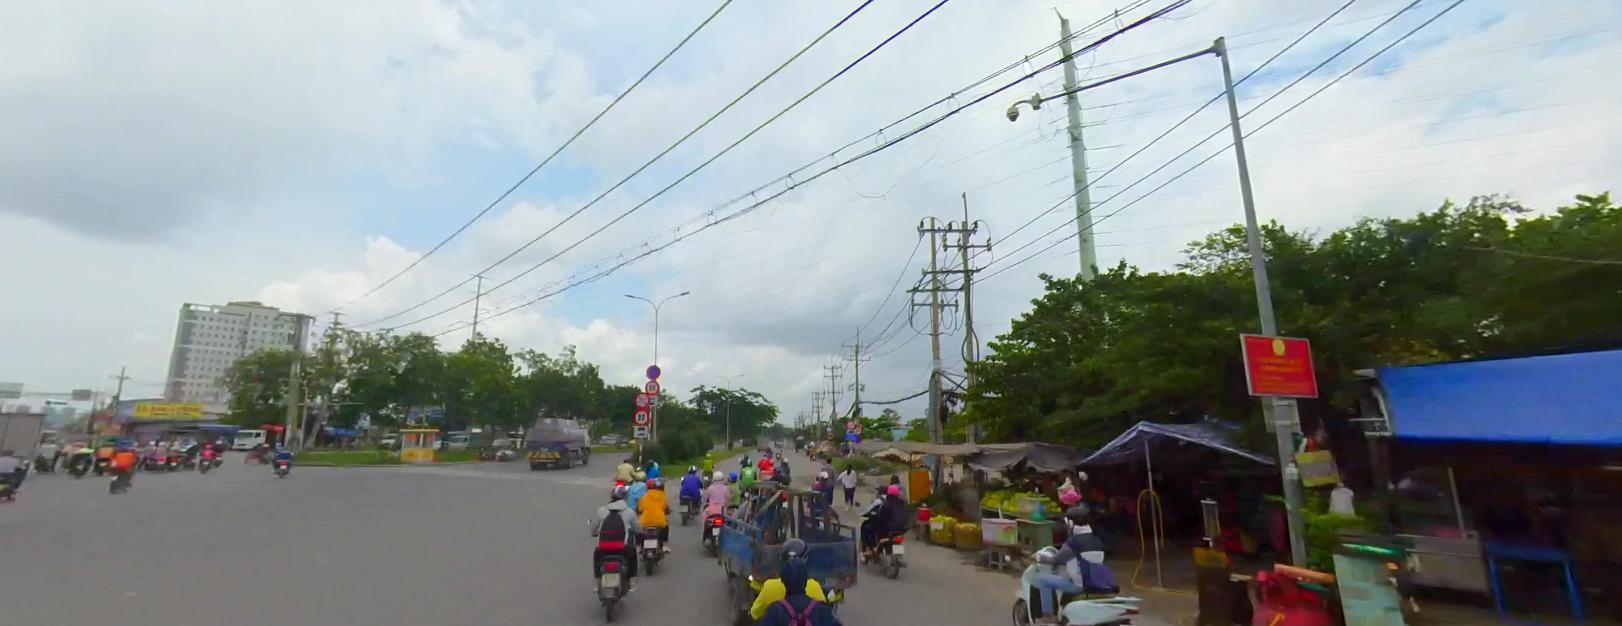Cam con lai: (634, 391, 647, 405), (853, 425, 861, 433)
Cam dung va do: (645, 363, 661, 378)
Gioi han toc do: (643, 380, 659, 393), (634, 410, 647, 423), (846, 419, 855, 427)
